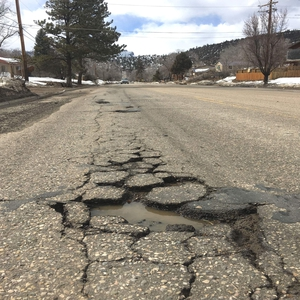pothole: (84, 187, 250, 249)
